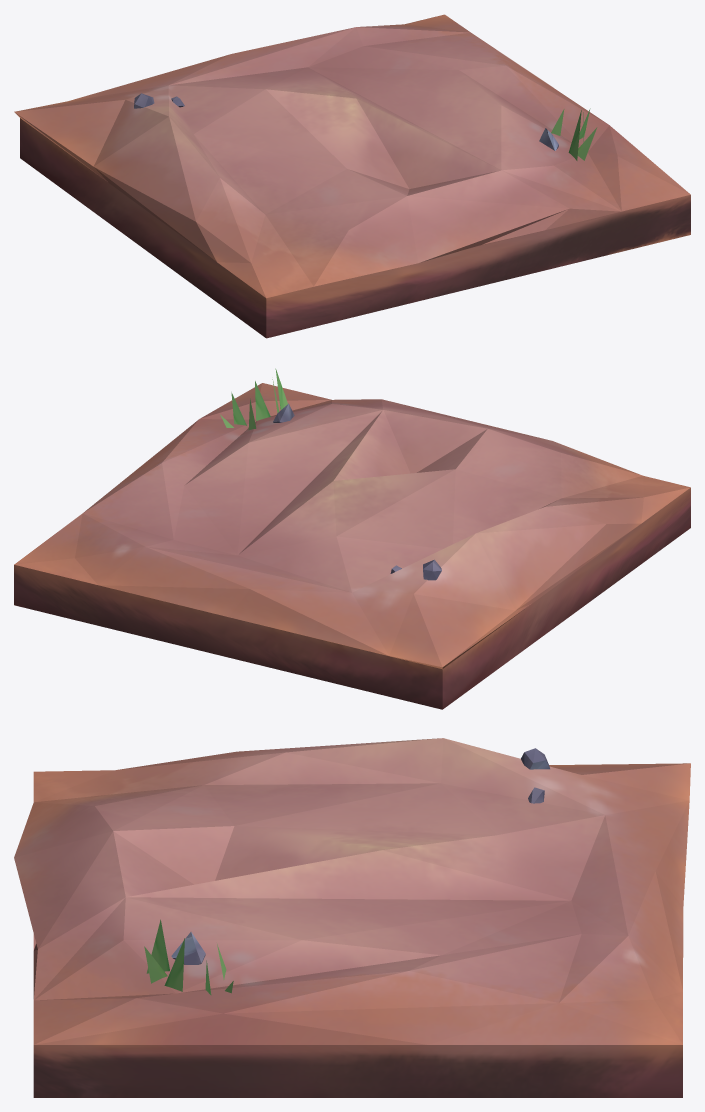
File: tile1.dae
3 renders of one model, top to bottom at view 1: azimuth 30°, elevation 25°; view 2: azimuth 150°, elevation 25°; view 3: azimuth 270°, elevation 25°, orthographic. The views are drawn at different scales.
Visible parts, largest first — view 1: ground; view 2: ground; view 3: ground.
Part boxes in pixels (<box>): ground: <box>14,14,690,338</box>; ground: <box>14,368,690,709</box>; ground: <box>14,738,690,1097</box>.
Size of the model in its own units: 7.61 by 7.91 by 1.8.
